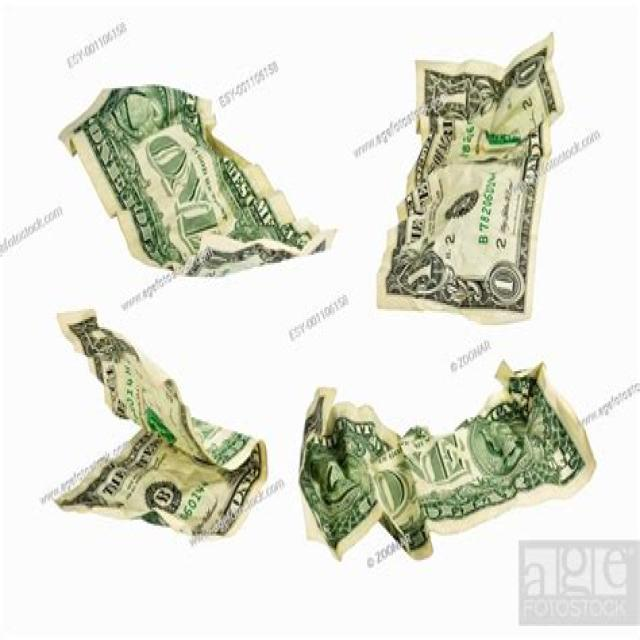banknote: (293, 358, 599, 564), (58, 77, 337, 281), (372, 30, 563, 324), (50, 308, 269, 540), (144, 126, 228, 242), (364, 434, 470, 515), (81, 118, 128, 195), (399, 251, 445, 295), (546, 438, 581, 483), (488, 261, 521, 306), (432, 80, 472, 114), (204, 239, 234, 268), (516, 58, 541, 87)
